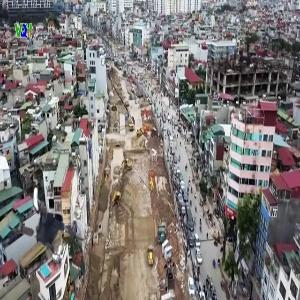drone: (5, 173, 97, 265)
